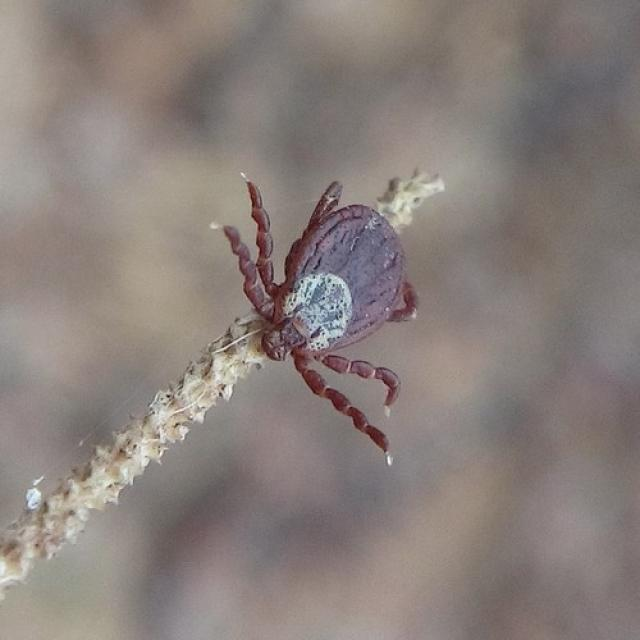Dermacentor Reticulatus-F: (223, 180, 420, 451)
